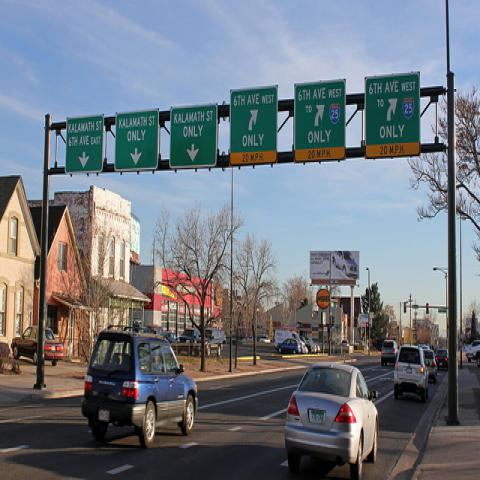car: (80, 324, 199, 452), (286, 361, 380, 475), (394, 340, 429, 404), (11, 326, 63, 368), (205, 328, 223, 358), (381, 339, 399, 366), (424, 349, 437, 385), (276, 338, 299, 355), (435, 347, 449, 371), (179, 328, 202, 342), (299, 336, 317, 353), (168, 333, 178, 342), (420, 343, 430, 350)
